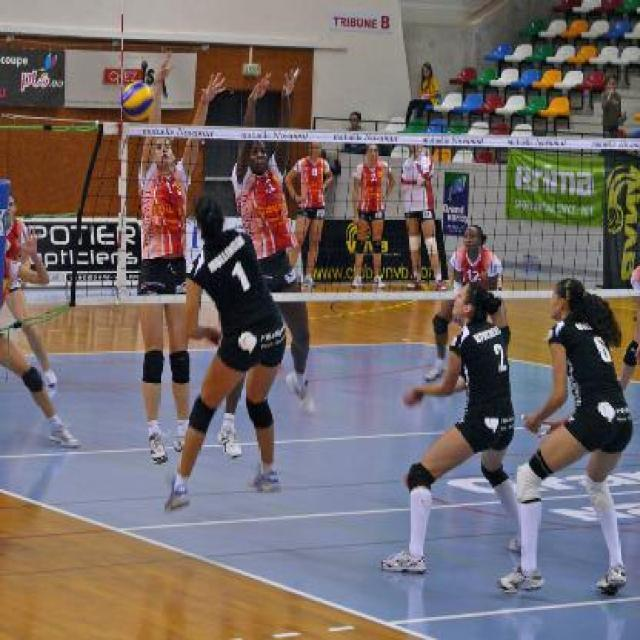volleyball: (122, 81, 156, 122)
